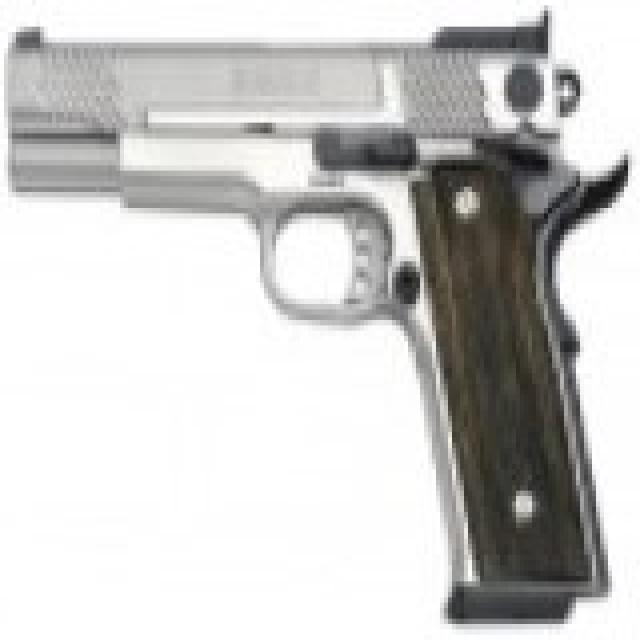gun: (4, 16, 612, 613)
